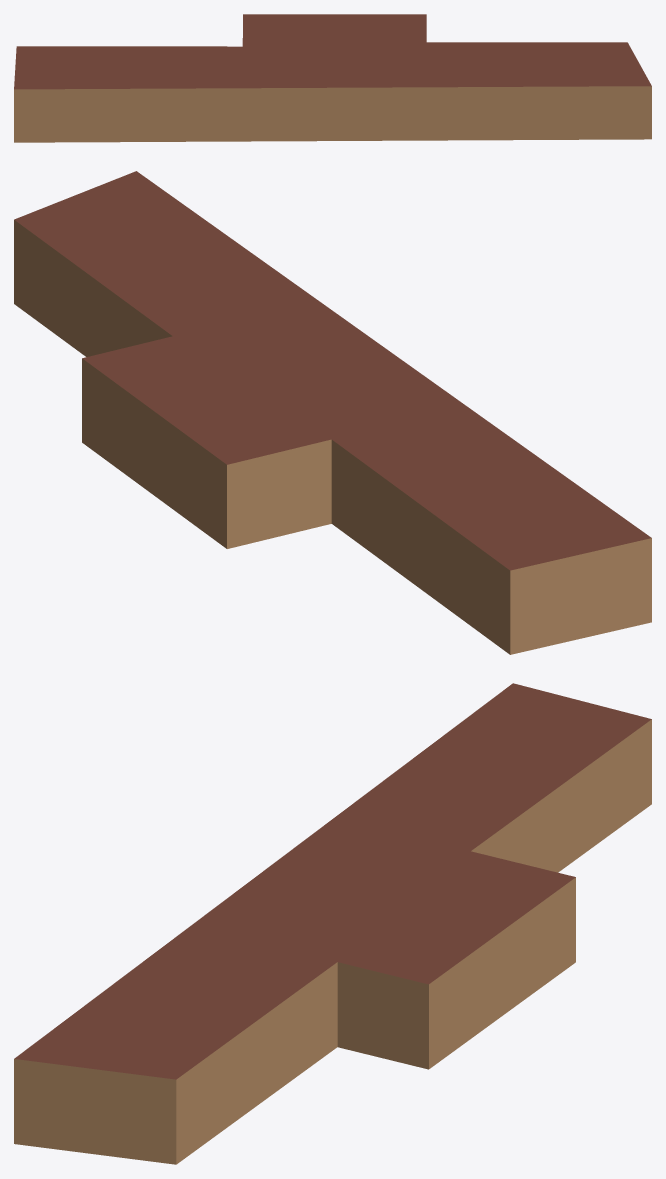
File: SM_Fondale_Citta_N_02_LOD2.fbx
3 renders of one model, top to bottom at view 1: azimuth 30°, elevation 25°; view 2: azimuth 150°, elevation 25°; view 3: azimuth 270°, elevation 25°, orthographic. The views are drawn at different scales.
Visible parts, largest first — view 1: SM_Fondale_Citta_N_02_LOD2; view 2: SM_Fondale_Citta_N_02_LOD2; view 3: SM_Fondale_Citta_N_02_LOD2.
Part boxes in pixels (box(x1,y1,x2,y2)): SM_Fondale_Citta_N_02_LOD2: box(14, 14, 651, 142); SM_Fondale_Citta_N_02_LOD2: box(14, 171, 651, 654); SM_Fondale_Citta_N_02_LOD2: box(14, 683, 651, 1164).
Bounding box in the file's own units: 8703 × 5920 × 872.
